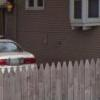Car: (1, 32, 41, 78)
